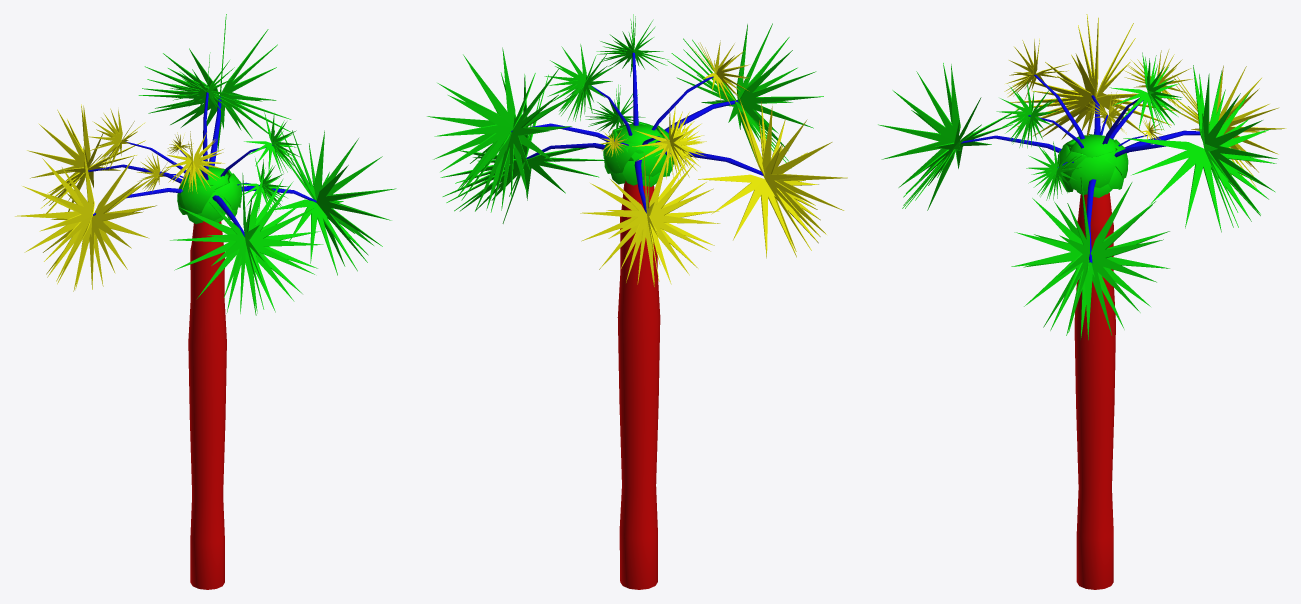
The model's file is TallTree.fbx.
The picture shows the model from 3 angles, left to right: view 1: azimuth 30°, elevation 25°; view 2: azimuth 150°, elevation 25°; view 3: azimuth 270°, elevation 25°; orthographic projection. The views are drawn at different scales.
Parts seen in each view (by area): view 1: polySurface88, polySurface205, polySurface203, polySurface201, polySurface200, polySurface176, polySurface202, polySurface177, polySurface175, polySurface204, polySurface196, polySurface199 (+9 smaller); view 2: polySurface88, polySurface181, polySurface198, polySurface193, polySurface201, polySurface207, polySurface182, polySurface180, polySurface178, polySurface194, polySurface175, polySurface195 (+9 smaller); view 3: polySurface88, polySurface179, polySurface156, polySurface206, polySurface181, polySurface176, polySurface174, polySurface178, polySurface177, polySurface199, polySurface81, polySurface200 (+12 smaller).
Boxes of the visible parts, bbox=[...] form: polySurface88: bbox=[188, 221, 226, 589]; polySurface205: bbox=[248, 168, 323, 301]; polySurface203: bbox=[170, 207, 257, 313]; polySurface201: bbox=[39, 146, 93, 281]; polySurface200: bbox=[89, 157, 143, 289]; polySurface176: bbox=[316, 165, 383, 266]; polySurface202: bbox=[15, 158, 89, 289]; polySurface177: bbox=[313, 130, 396, 245]; polySurface175: bbox=[275, 199, 368, 275]; polySurface204: bbox=[251, 179, 320, 312]; polySurface196: bbox=[27, 105, 90, 200]; polySurface199: bbox=[73, 177, 156, 291]; polySurface88: bbox=[617, 180, 660, 589]; polySurface181: bbox=[434, 47, 515, 196]; polySurface198: bbox=[698, 174, 818, 258]; polySurface193: bbox=[649, 149, 720, 275]; polySurface201: bbox=[762, 106, 847, 234]; polySurface207: bbox=[738, 50, 823, 161]; polySurface182: bbox=[427, 54, 506, 210]; polySurface180: bbox=[475, 94, 576, 211]; polySurface178: bbox=[490, 68, 559, 212]; polySurface194: bbox=[580, 183, 653, 284]; polySurface175: bbox=[491, 144, 604, 200]; polySurface195: bbox=[651, 161, 718, 284]; polySurface88: bbox=[1074, 192, 1115, 589]; polySurface179: bbox=[1123, 138, 1251, 232]; polySurface156: bbox=[1090, 182, 1163, 335]; polySurface206: bbox=[878, 64, 960, 187]; polySurface181: bbox=[1201, 73, 1277, 214]; polySurface176: bbox=[1011, 198, 1085, 339]; polySurface174: bbox=[1085, 201, 1169, 339]; polySurface178: bbox=[1193, 65, 1276, 199]; polySurface177: bbox=[1056, 177, 1089, 332]; polySurface199: bbox=[1016, 76, 1093, 139]; polySurface81: bbox=[1074, 151, 1116, 187]; polySurface200: bbox=[1010, 53, 1094, 137].
Bounding box in the file's own units: 23.53 × 32.62 × 22.18.
